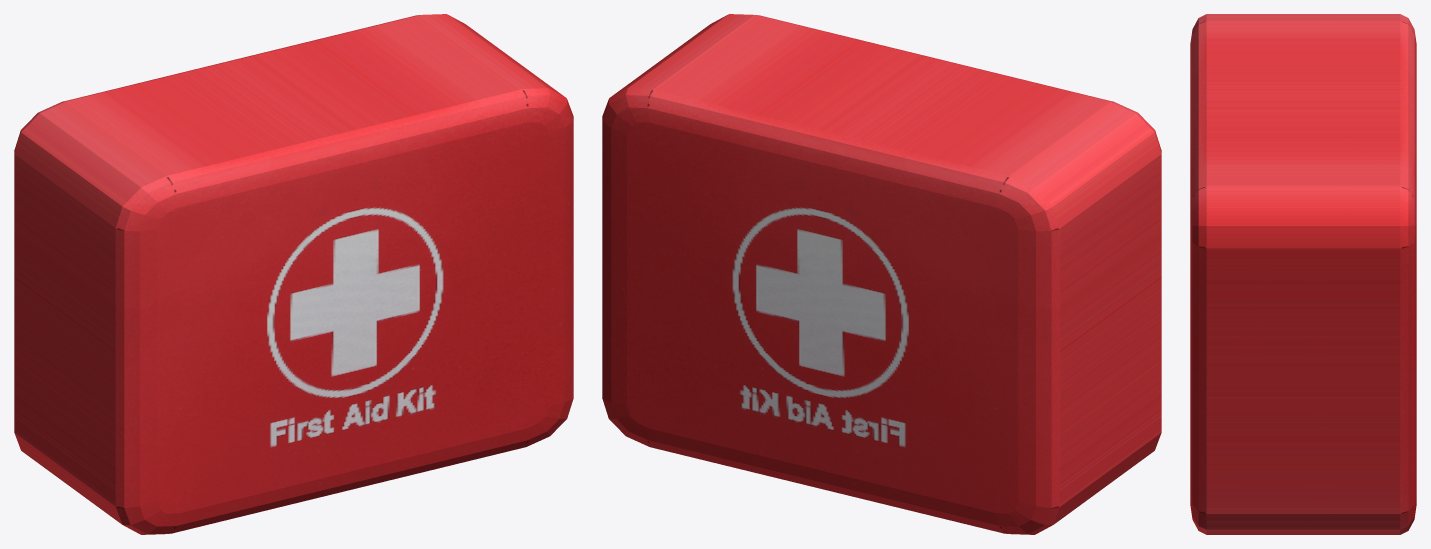
Rendered from First Aid.fbx.
The picture shows the model from 3 angles, left to right: view 1: azimuth 30°, elevation 25°; view 2: azimuth 150°, elevation 25°; view 3: azimuth 270°, elevation 25°; orthographic projection. The views are drawn at different scales.
Visible parts, largest first — view 1: First_Aid; view 2: First_Aid; view 3: First_Aid.
Boxes of the visible parts, x1,y1,x2,y2 form: First_Aid: (14, 14, 573, 534); First_Aid: (602, 14, 1161, 534); First_Aid: (1190, 14, 1416, 534).
Bounding box in the file's own units: 18.6 × 13.9 × 8.35.
1 material, 1 textured.
